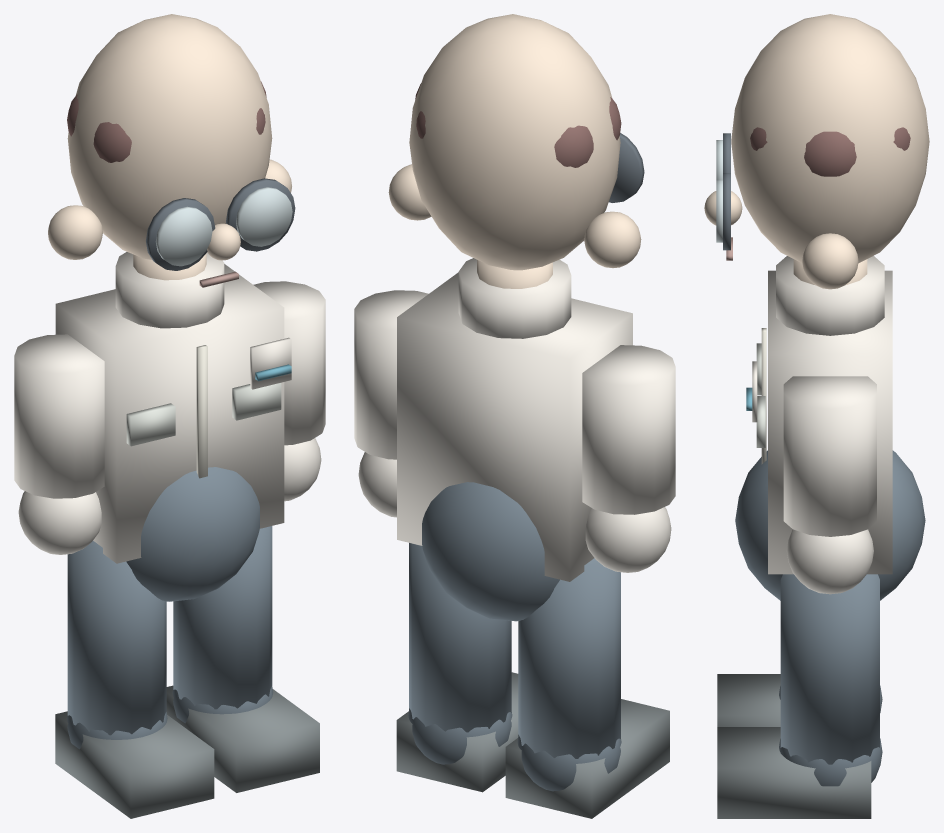
Rendered from mercy_person_19.glb.
3 views of the same model, side by side, from view 1: azimuth 30°, elevation 25°; view 2: azimuth 150°, elevation 25°; view 3: azimuth 270°, elevation 25° (orthographic). The views are drawn at different scales.
Visible parts, largest first — view 1: SkinClothing_0, SkinClothing_2, Arm_Left, Leg_Left, Leg_Right, SkinClothing_1, Boot_Left, Boot_Right, Arm_Right, SkinClothing_6, SkinClothing_4, SkinClothing_5 (+2 smaller); view 2: SkinClothing_0, SkinClothing_2, Leg_Left, Arm_Left, Leg_Right, SkinClothing_1, Arm_Right, Boot_Left, Boot_Right, SkinClothing_8, SkinClothing_5; view 3: SkinClothing_2, SkinClothing_0, Arm_Right, Leg_Right, Boot_Right, SkinClothing_1, Boot_Left, SkinClothing_8, SkinClothing_5, SkinClothing_4, SkinClothing_6, SkinClothing_3.
Boxes of the visible parts, x1,y1,x2,y2 form: SkinClothing_0: [55, 252, 291, 563]; SkinClothing_2: [48, 14, 291, 280]; Arm_Left: [14, 334, 104, 554]; Leg_Left: [66, 541, 167, 749]; Leg_Right: [172, 526, 273, 723]; SkinClothing_1: [126, 467, 259, 601]; Boot_Left: [55, 711, 214, 818]; Boot_Right: [166, 685, 319, 792]; Arm_Right: [253, 281, 325, 501]; SkinClothing_6: [155, 187, 292, 266]; SkinClothing_4: [126, 383, 281, 446]; SkinClothing_5: [146, 178, 295, 270]; SkinClothing_0: [397, 258, 632, 581]; SkinClothing_2: [388, 14, 641, 288]; Leg_Left: [517, 558, 621, 791]; Arm_Left: [582, 345, 675, 572]; Leg_Right: [408, 543, 512, 764]; SkinClothing_1: [422, 482, 559, 621]; Arm_Right: [354, 290, 428, 517]; Boot_Left: [505, 699, 669, 818]; Boot_Right: [396, 672, 518, 792]; SkinClothing_8: [415, 83, 621, 167]; SkinClothing_5: [609, 133, 644, 202]; SkinClothing_2: [704, 14, 929, 289]; SkinClothing_0: [752, 256, 892, 574]; Arm_Right: [783, 376, 876, 594]; Leg_Right: [779, 574, 882, 786]; Boot_Right: [717, 727, 871, 818]; SkinClothing_1: [735, 450, 925, 600]; Boot_Left: [717, 674, 780, 726]; SkinClothing_8: [750, 127, 910, 176]; SkinClothing_5: [723, 133, 730, 250]; SkinClothing_4: [756, 343, 765, 447]; SkinClothing_6: [716, 140, 722, 242]; SkinClothing_3: [761, 328, 766, 464].
Bounding box in the file's own units: 1.02 × 2.4 × 0.6523.
